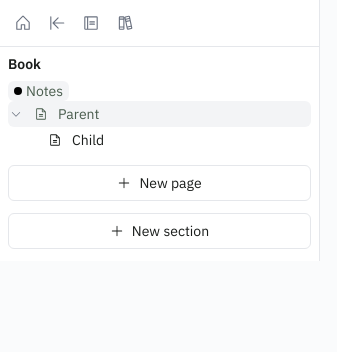
Scenario: Sidebar › sidebar_menu_hides_page_window_on_mobile
The width and height of the screenshot is (337, 352).
Right-click the button "Child" at (88, 140), box [42,127,311,153]
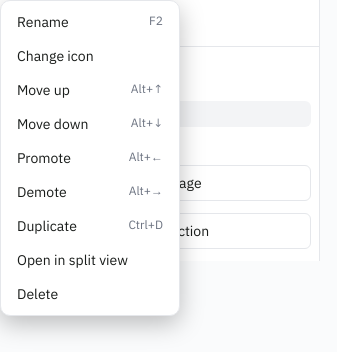
Expected: the menu item "Delete" is shown, [5,277,175,311]
